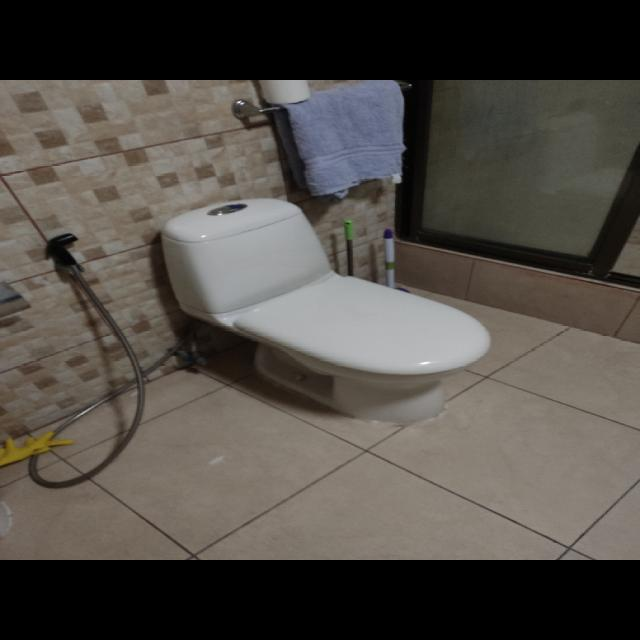toilet: (152, 189, 505, 427)
